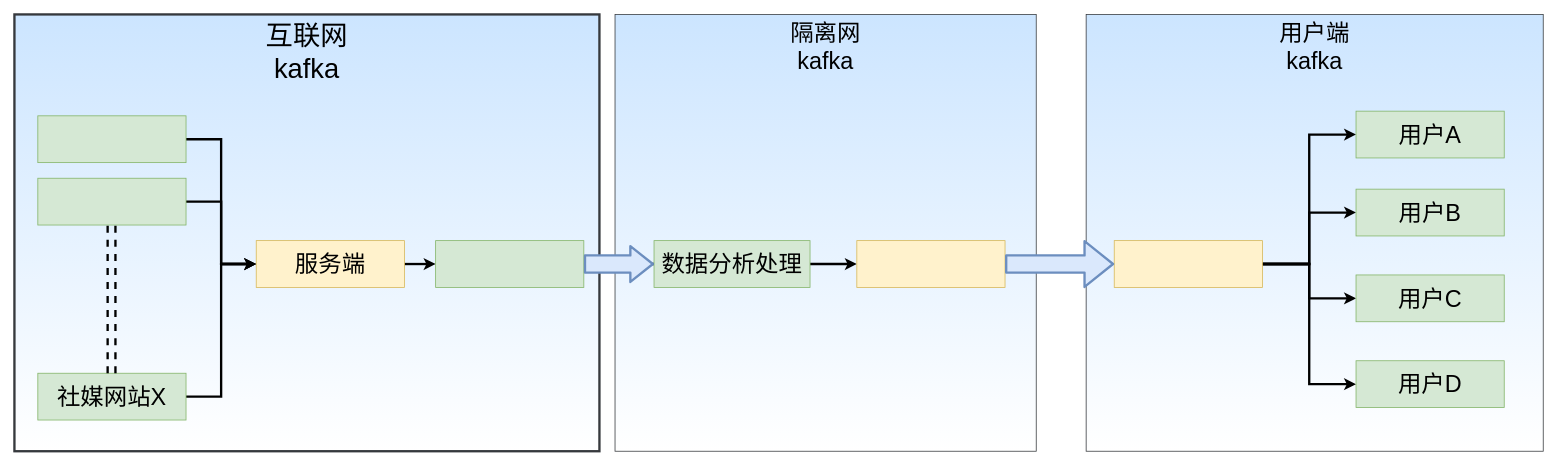
This 1557x466 diagram has some shape labels left out. Here are the shapes that lost their labels. From the top down, the centre of each, then its label:
At (111,139): "社媒网站A".
At (111,201): "社媒网站B".
At (509,263): "数据汇总".
At (930,263): "数据推送".
At (1187,263): "客户端".
